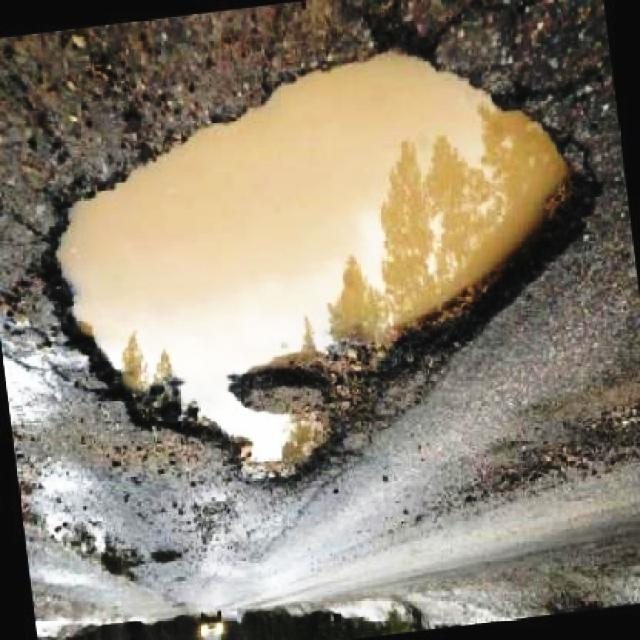pothole: (52, 40, 603, 486), (40, 524, 149, 590)
